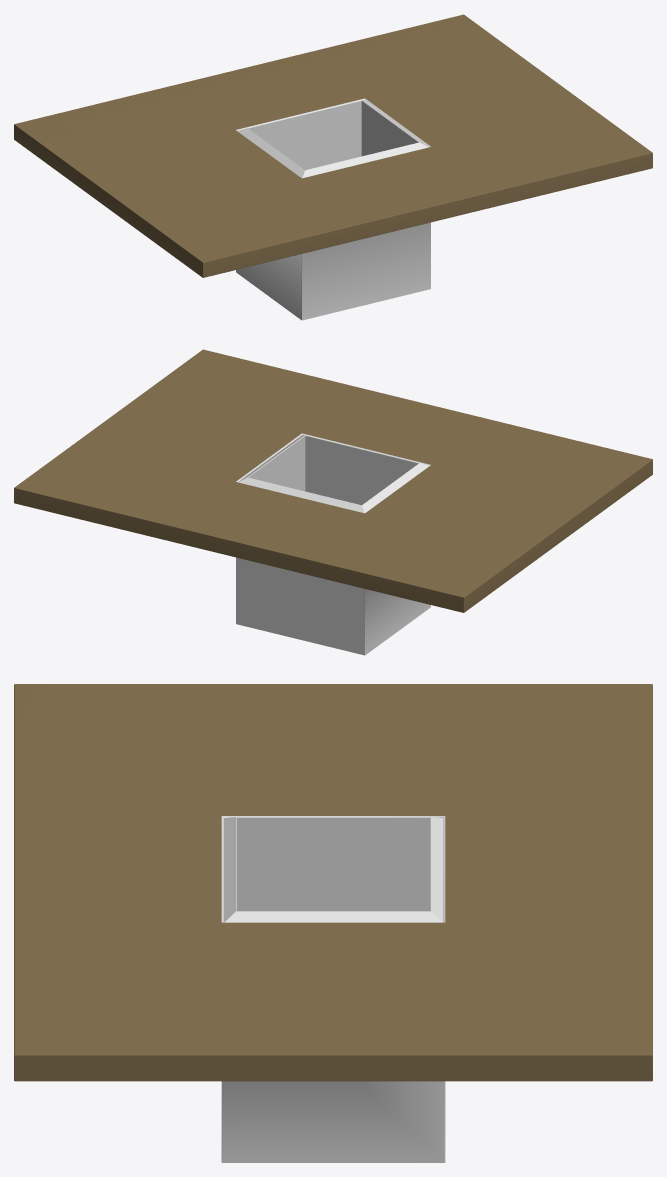
The model's file is Table_03.fbx.
3 views of the same model, one above another, from view 1: azimuth 30°, elevation 25°; view 2: azimuth 150°, elevation 25°; view 3: azimuth 270°, elevation 25° (orthographic). The views are drawn at different scales.
Parts seen in each view (by area): view 1: MeetingTable; view 2: MeetingTable; view 3: MeetingTable.
Part boxes in pixels (x1,y1,x2,y2): MeetingTable: [14, 14, 652, 320]; MeetingTable: [14, 349, 652, 655]; MeetingTable: [14, 684, 652, 1162].
Bounding box in the file's own units: 218 × 67.18 × 159.
2 materials, 1 textured.
